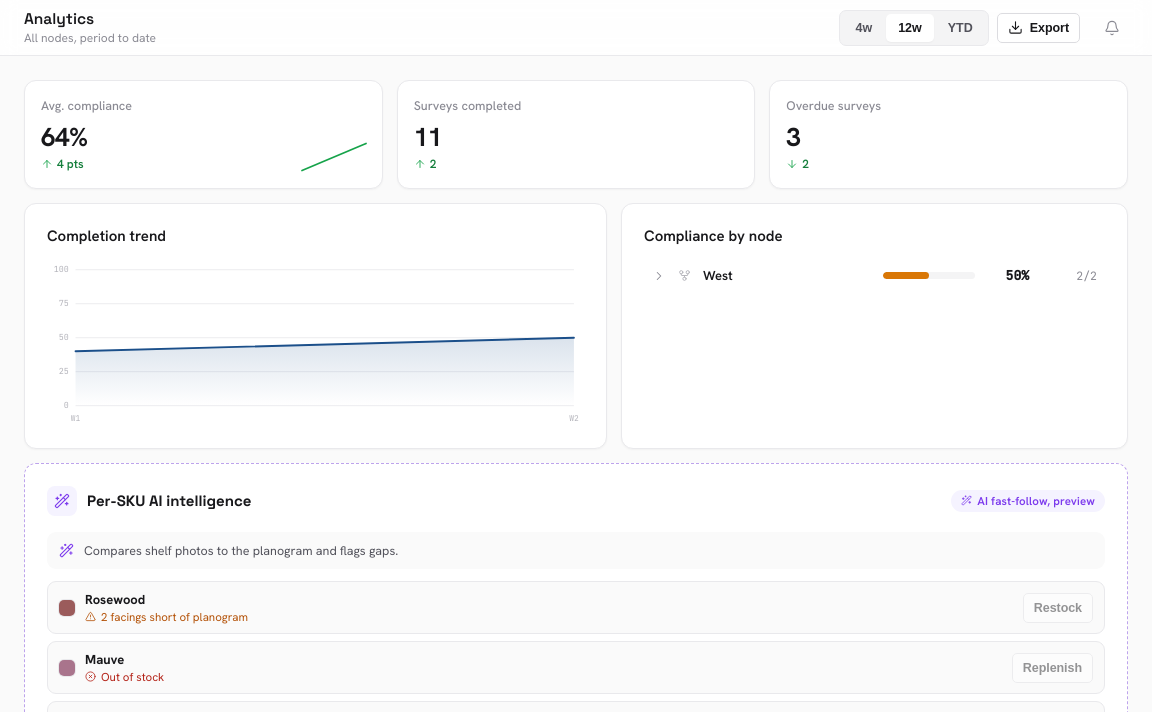
Scenario: Dashboard › drilling a node renders the per-product store detail without throwing
Click the text "West".
click(718, 276)  # box x1=703 y1=267 x2=733 y2=284
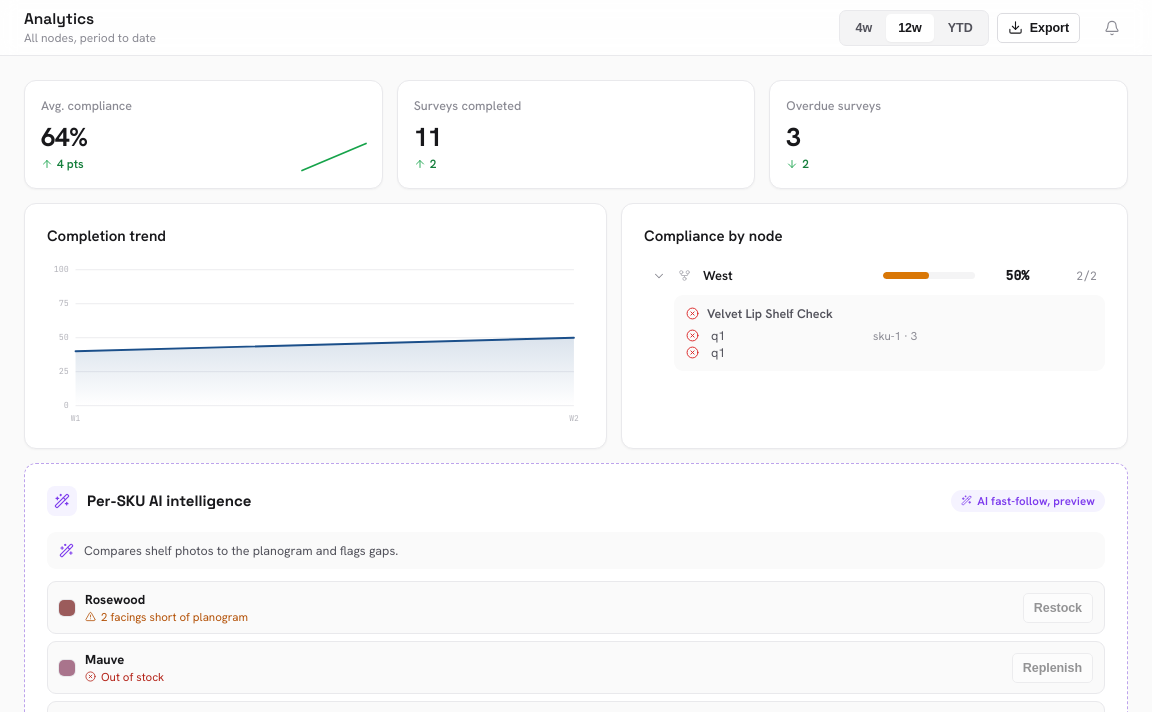
Now the text "q1" is shown 2 times, box x1=711 y1=327 x2=725 y2=344; x1=711 y1=344 x2=725 y2=361
Now the text "sku-1 · 3" is shown, box x1=873 y1=328 x2=917 y2=343
Now the text "Velvet Lip Shelf Check" is shown, box x1=707 y1=305 x2=833 y2=322
